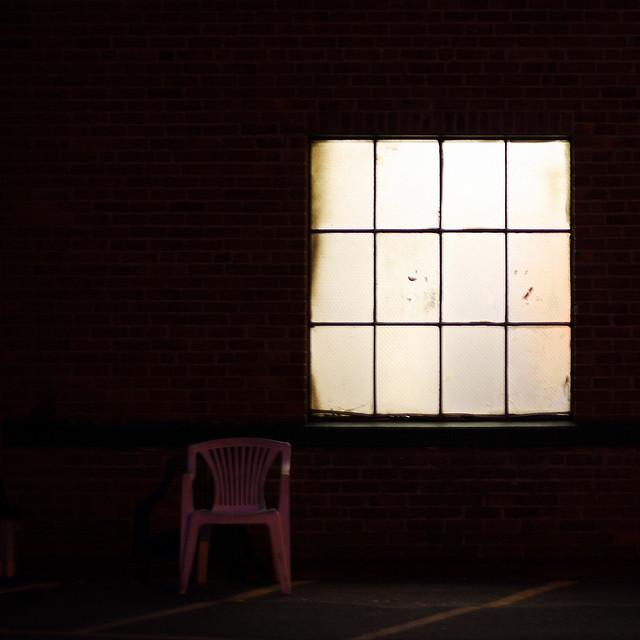chair: (148, 413, 314, 610)
